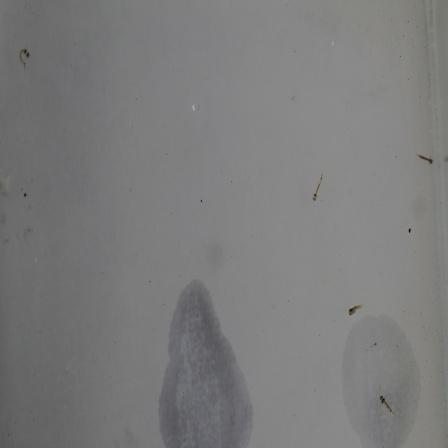Jentik-Nyamuk: (309, 173, 328, 207), (412, 147, 437, 172), (378, 391, 397, 423), (15, 43, 36, 71), (346, 302, 365, 321)
